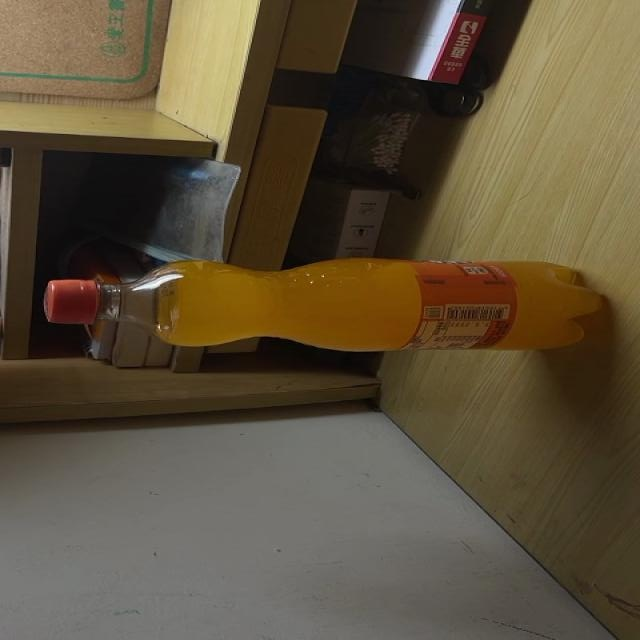Fanta: (46, 255, 608, 352)
